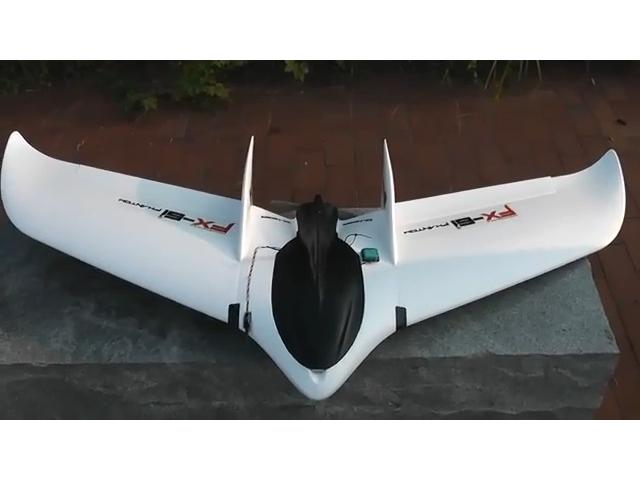Anti-Drone: (2, 115, 636, 412)
